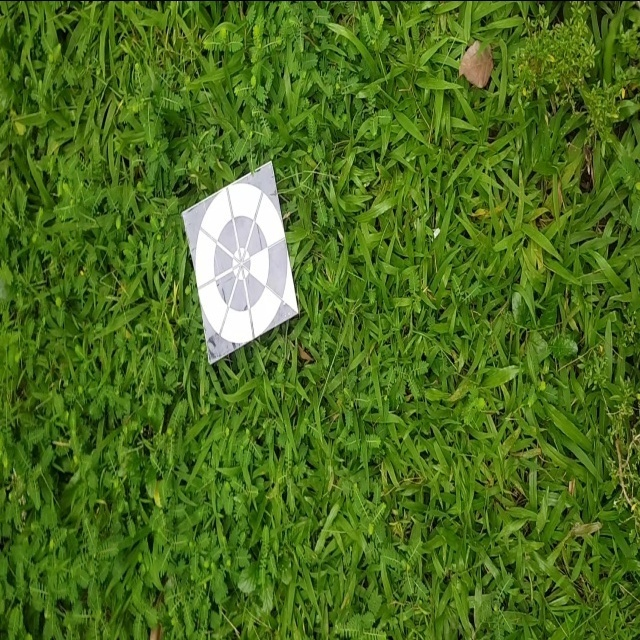landing-zone: (181, 158, 304, 367)
